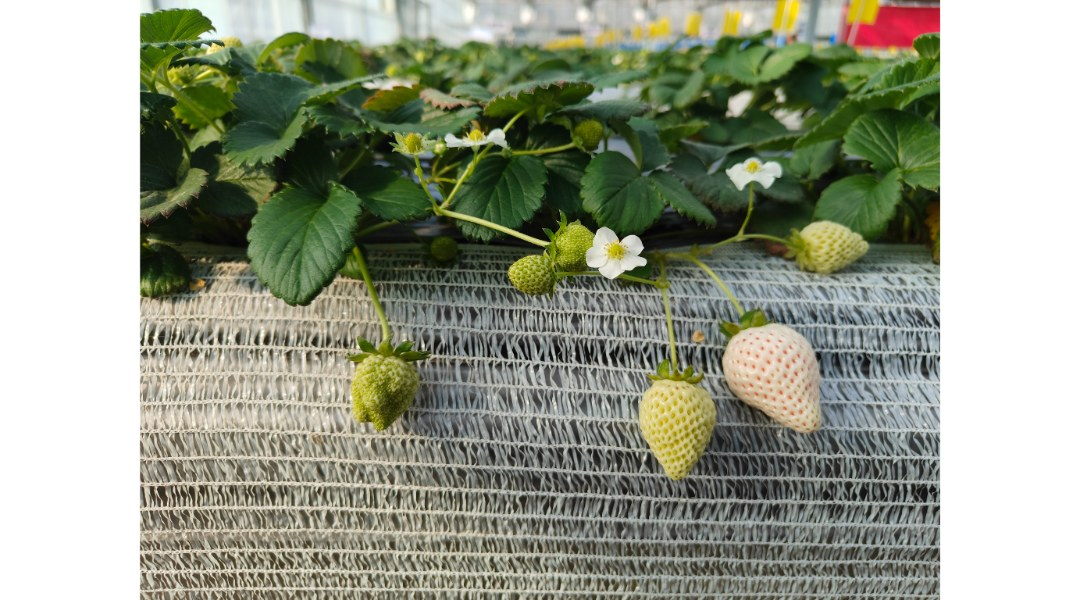berry: (720, 314, 823, 438), (636, 358, 721, 490), (340, 327, 424, 435), (787, 215, 873, 281), (500, 248, 561, 295), (544, 207, 586, 269), (385, 124, 438, 159), (572, 115, 605, 153)
flower: (581, 221, 652, 282), (721, 150, 782, 197), (440, 126, 506, 154)
strain: (449, 207, 549, 245), (695, 259, 751, 309), (357, 252, 390, 323), (440, 162, 478, 204), (660, 298, 681, 356), (740, 187, 758, 230), (740, 233, 794, 245), (516, 146, 576, 156)
